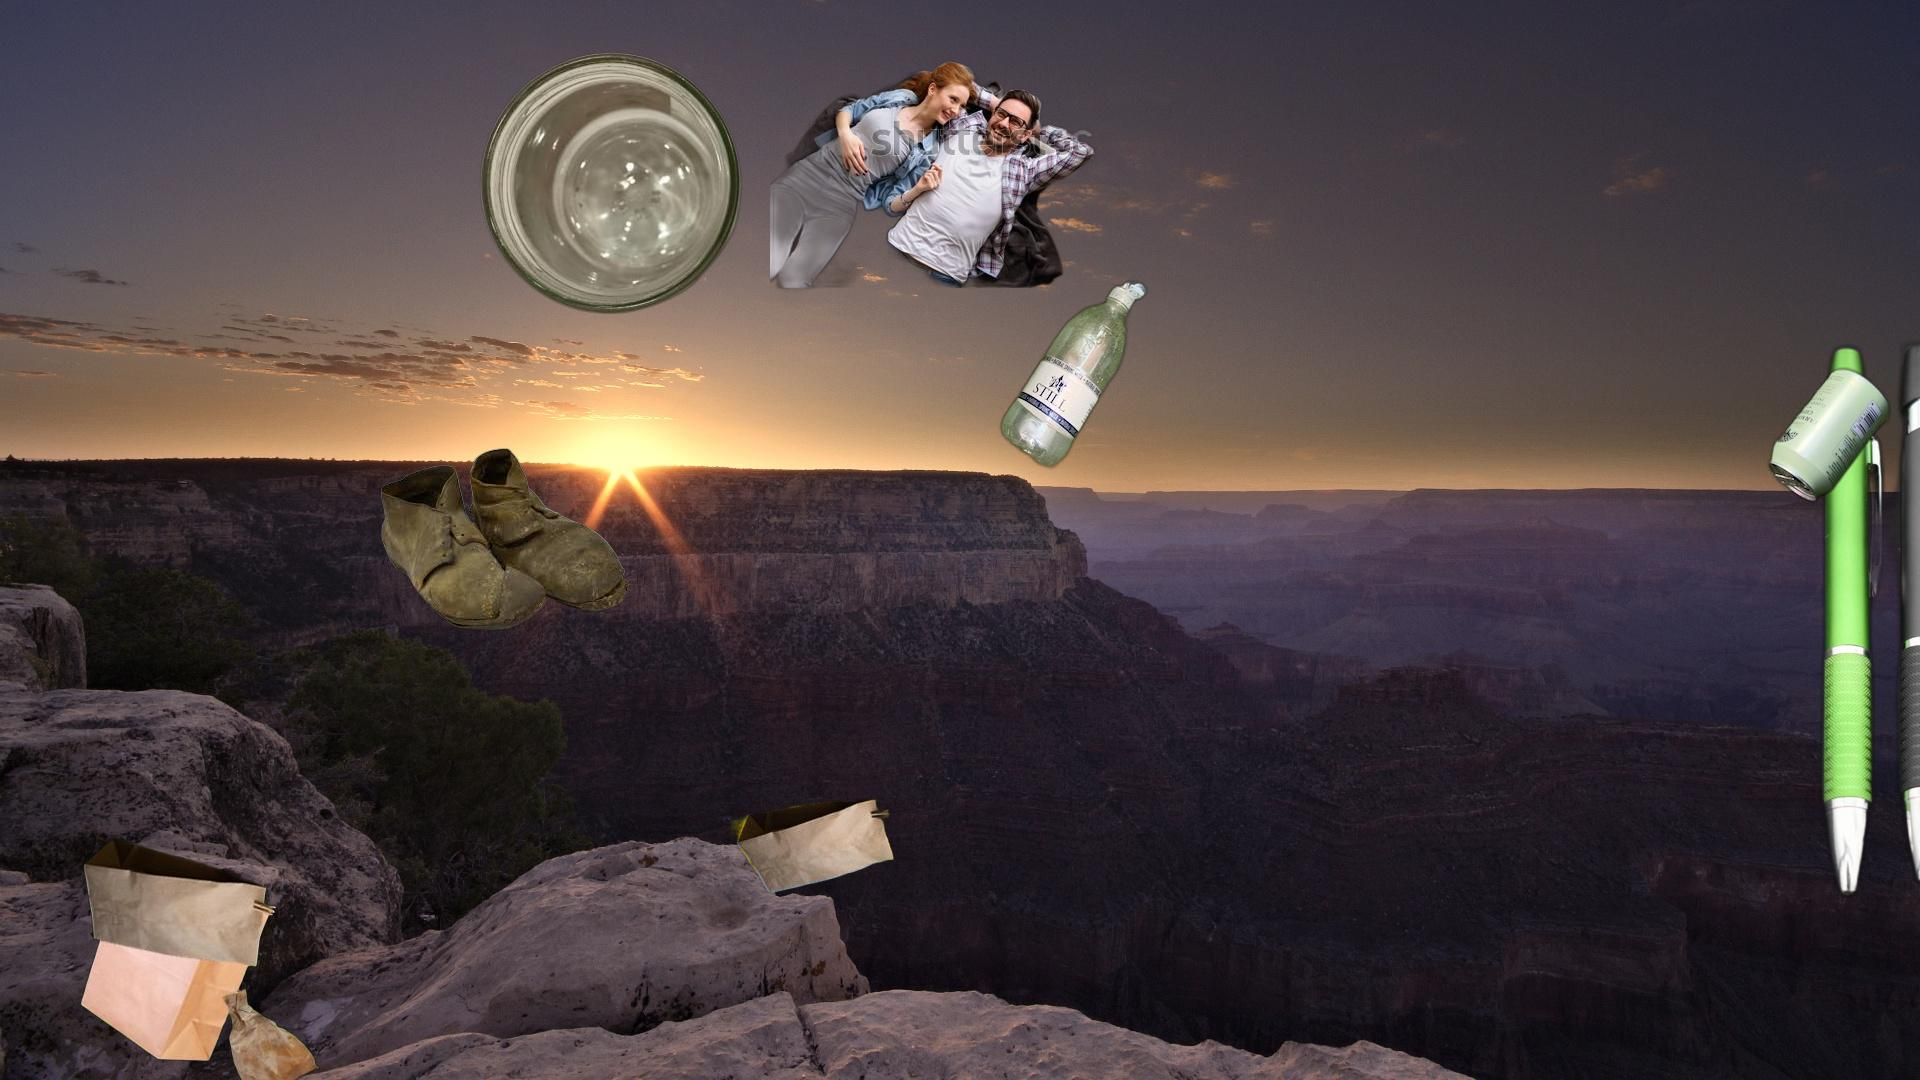glass: (477, 50, 745, 316)
metal-cans: (1764, 363, 1894, 506)
paper-bag: (76, 836, 322, 1080), (724, 795, 905, 913)
penholder: (1813, 334, 1920, 905)
plastic-bottles: (996, 276, 1251, 595)
shoes: (378, 446, 632, 636)
trashbox-cardboard: (770, 58, 1098, 309)
